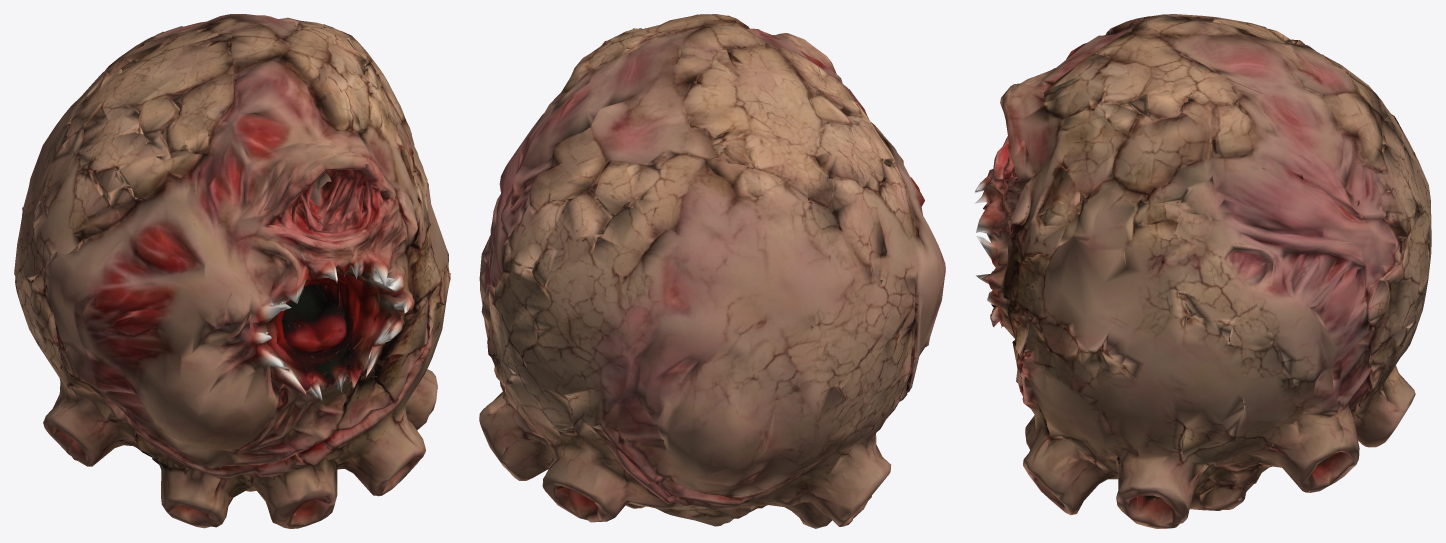
The model's file is Monster3.glb.
The picture shows the model from 3 angles, left to right: view 1: azimuth 30°, elevation 25°; view 2: azimuth 150°, elevation 25°; view 3: azimuth 270°, elevation 25°; orthographic projection. The views are drawn at different scales.
Visible parts, largest first — view 1: Mesh_0; view 2: Mesh_0; view 3: Mesh_0.
Part boxes in pixels (left/top/right/bottom): Mesh_0: left=14, top=14, right=450, bottom=528; Mesh_0: left=479, top=14, right=945, bottom=528; Mesh_0: left=974, top=14, right=1431, bottom=528.
Bounding box in the file's own units: 1.73 × 2 × 1.76.
1 material, 1 textured.
